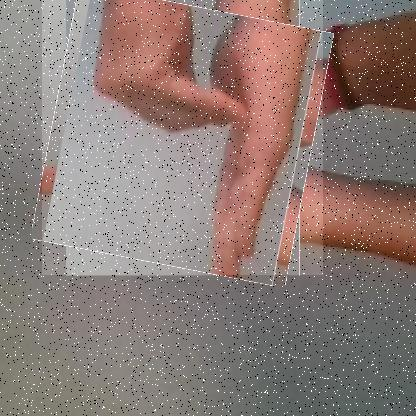Z: (41, 0, 323, 276)
